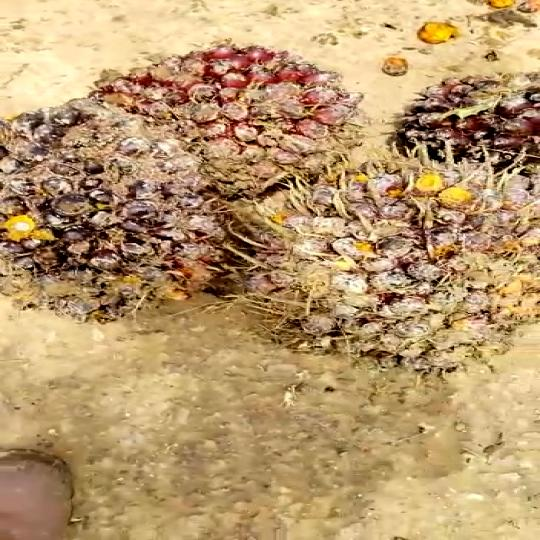kurang masak: (223, 143, 540, 380), (0, 94, 236, 326), (87, 39, 377, 180)
